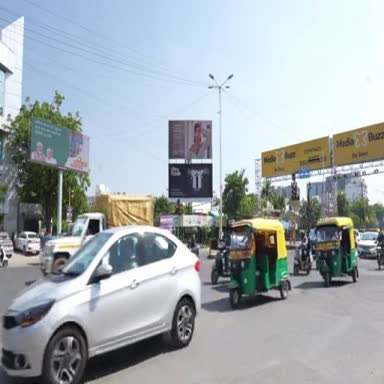Car: (2, 226, 201, 383), (15, 232, 41, 254), (357, 232, 378, 258), (0, 232, 13, 258), (354, 229, 360, 243)
